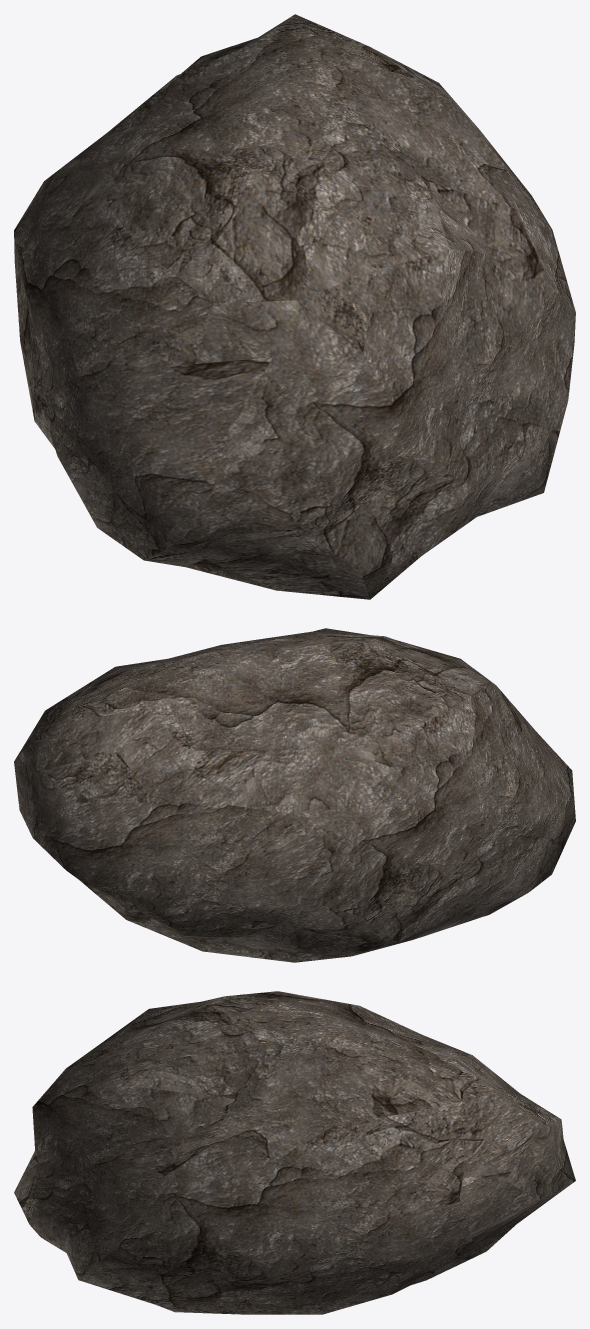
File: small_meteorite.obj
3 renders of one model, top to bottom at view 1: azimuth 30°, elevation 25°; view 2: azimuth 150°, elevation 25°; view 3: azimuth 270°, elevation 25°, orthographic. The views are drawn at different scales.
Visible parts, largest first — view 1: GeoSphere002; view 2: GeoSphere002; view 3: GeoSphere002.
Boxes of the visible parts, left/top/right/bottom form: GeoSphere002: left=14, top=14, right=575, bottom=599; GeoSphere002: left=14, top=628, right=575, bottom=962; GeoSphere002: left=14, top=991, right=575, bottom=1314.
Size of the model in its own units: 58.34 by 39.86 by 71.82.
